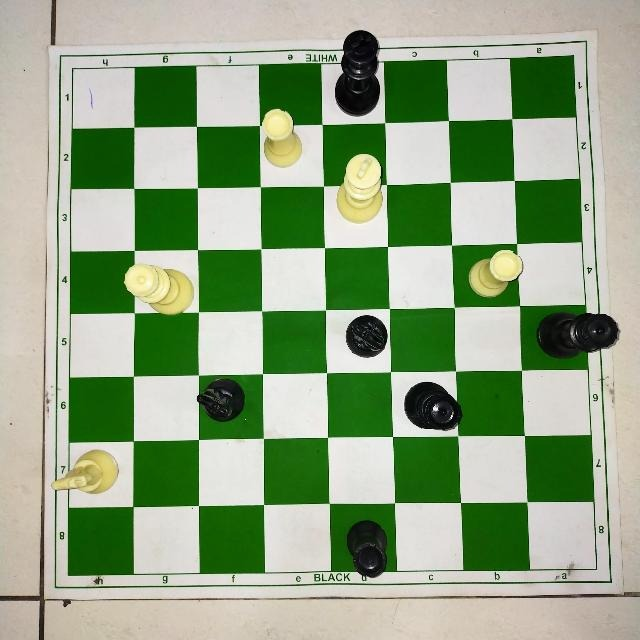black-king: (333, 25, 382, 118)
black-knight: (196, 371, 247, 423), (343, 312, 388, 363)
black-queen: (533, 310, 620, 360), (401, 381, 465, 433)
black-rook: (344, 517, 387, 578)
white-king: (334, 151, 386, 224)
white-knight: (51, 446, 120, 504)
white-queen: (121, 262, 196, 318)
white-rook: (257, 105, 305, 169), (465, 248, 524, 300)
